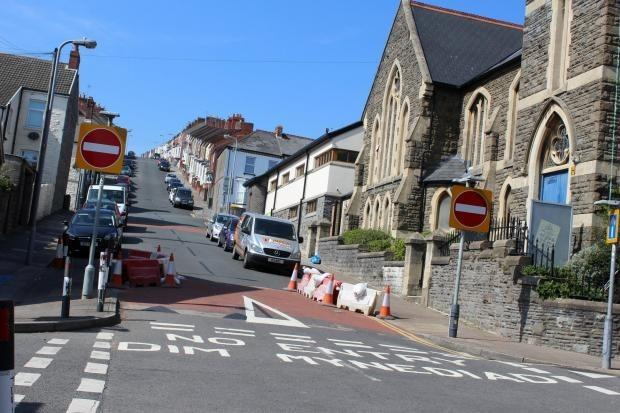No_entry: (79, 128, 123, 168), (454, 190, 488, 228)
